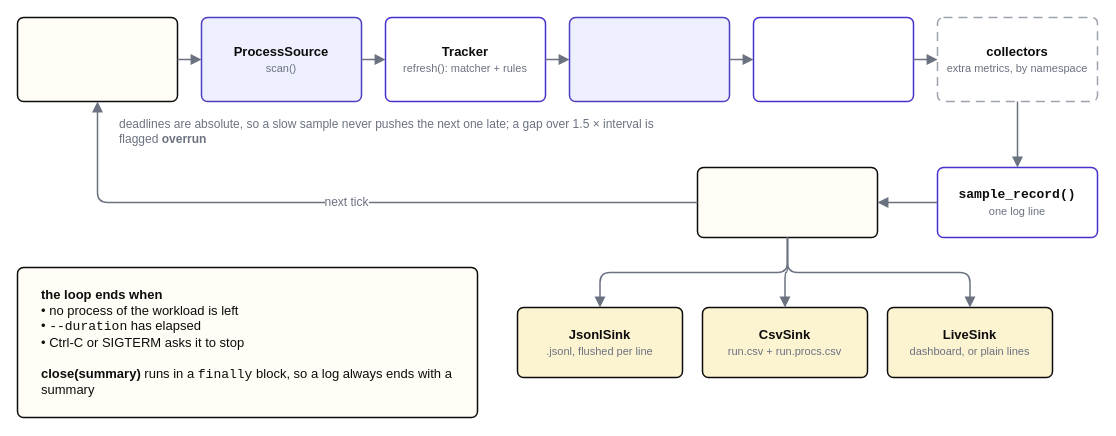
Image size: 1116x436. Some labels were removed from this diagram. The centre of each missing label's shape, as x and y in pixels:
"Aggregator build(): rates, totals, cgroup" belongs at [833,59].
"CompositeSink sample(record)" belongs at [787,202].
"enrich cmdline · PSS · swap" belongs at [649,59].
"sleep until origin + seq × interval" belongs at [97,59].
